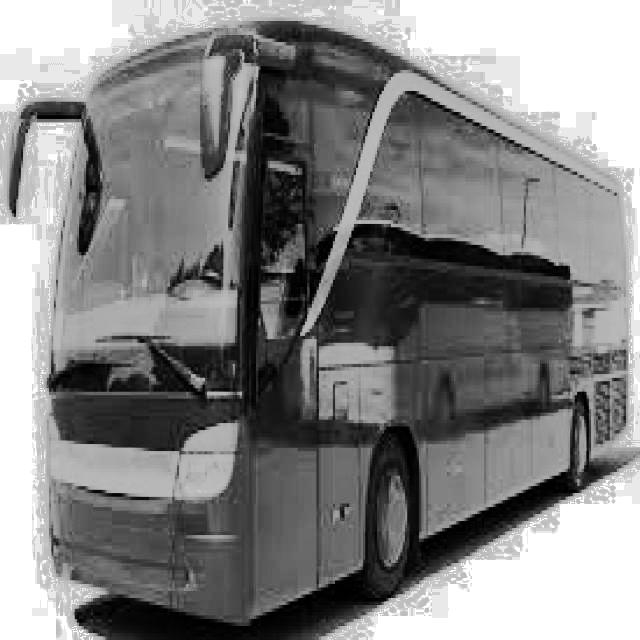Bus: (0, 3, 640, 639)
